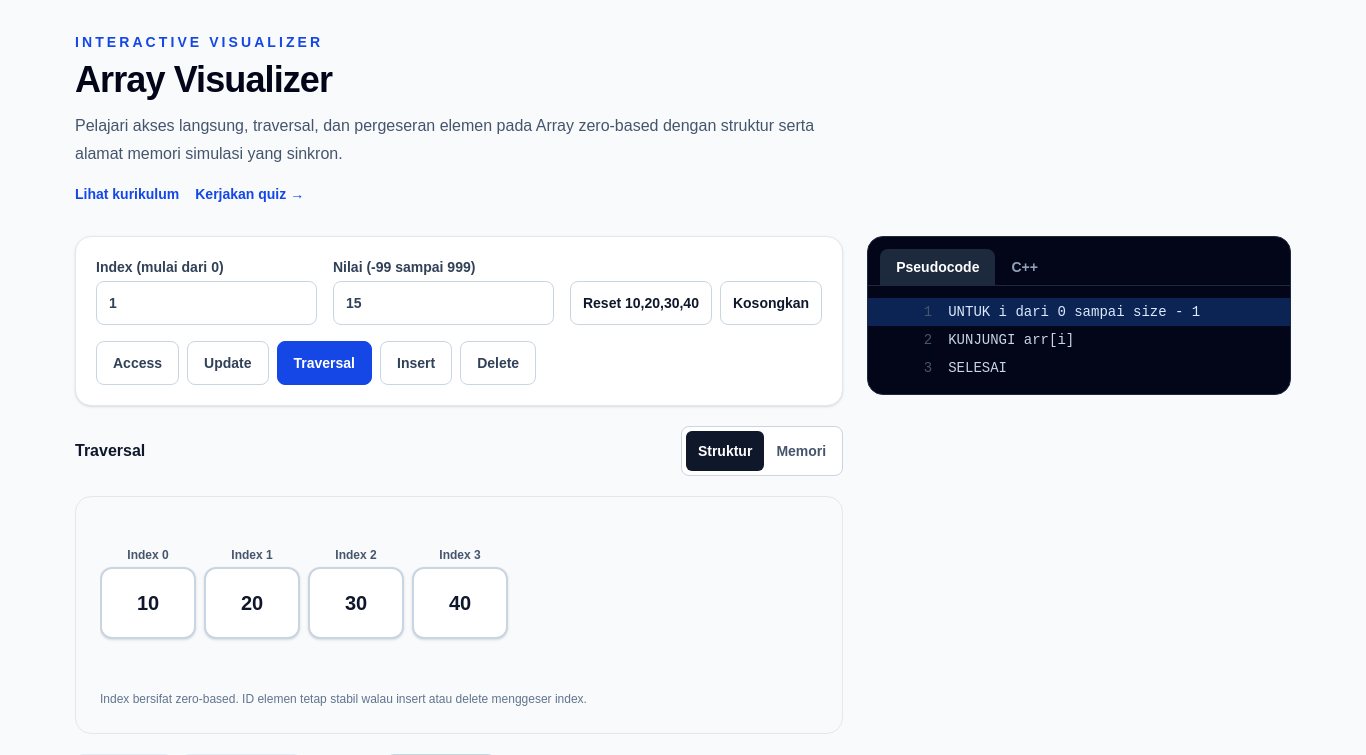
ArrayVisualizer › switches to memory view and updates complexity metadata
Click the button "Memori": (801, 451) top-left (764, 431), bottom-right (838, 471)
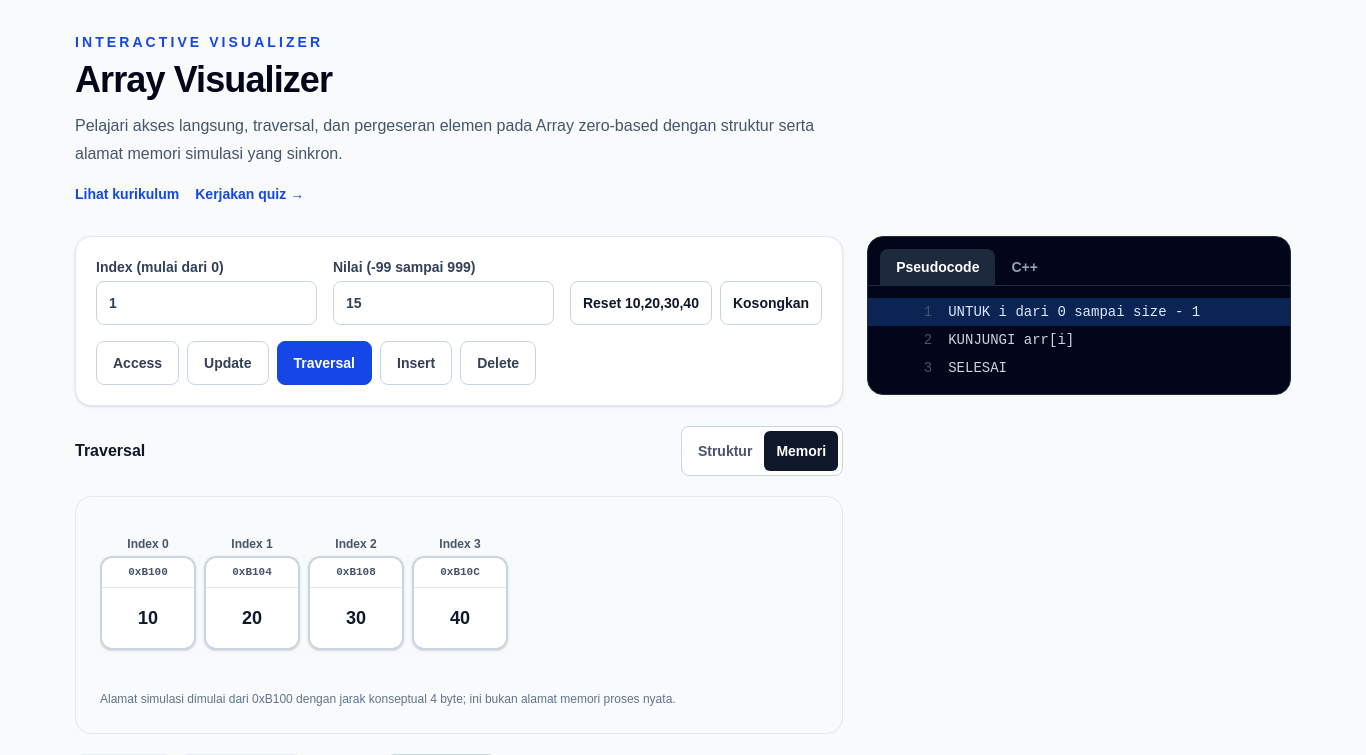
Now the text "0xB100" is shown, box top-left (102, 558), bottom-right (194, 588)
Click the button "Access": (138, 363) top-left (96, 341), bottom-right (179, 385)
(page scrolled)
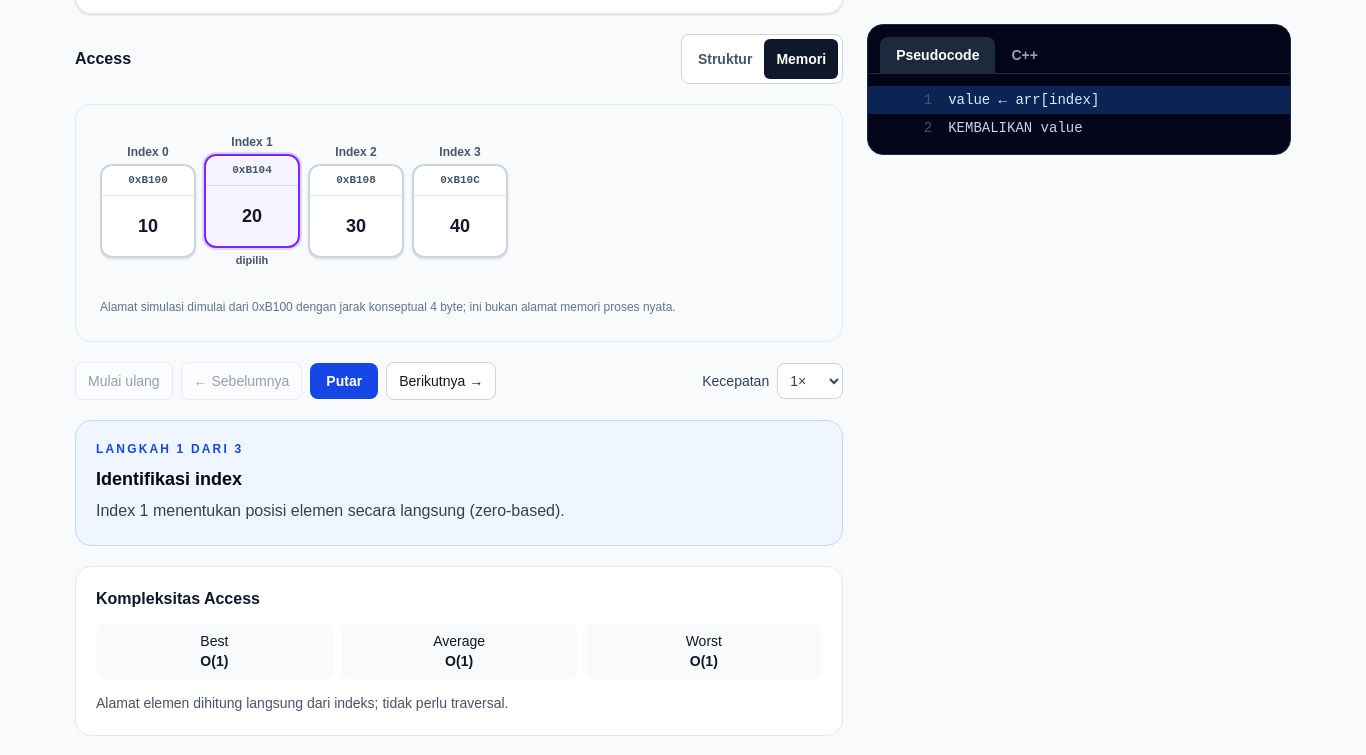
Expected: the text "O(1)" is shown 3 times, top-left (200, 653), bottom-right (228, 669); top-left (445, 653), bottom-right (473, 669); top-left (690, 653), bottom-right (718, 669)
Now the heading "Kompleksitas Access" is shown, box top-left (96, 590), bottom-right (260, 607)
